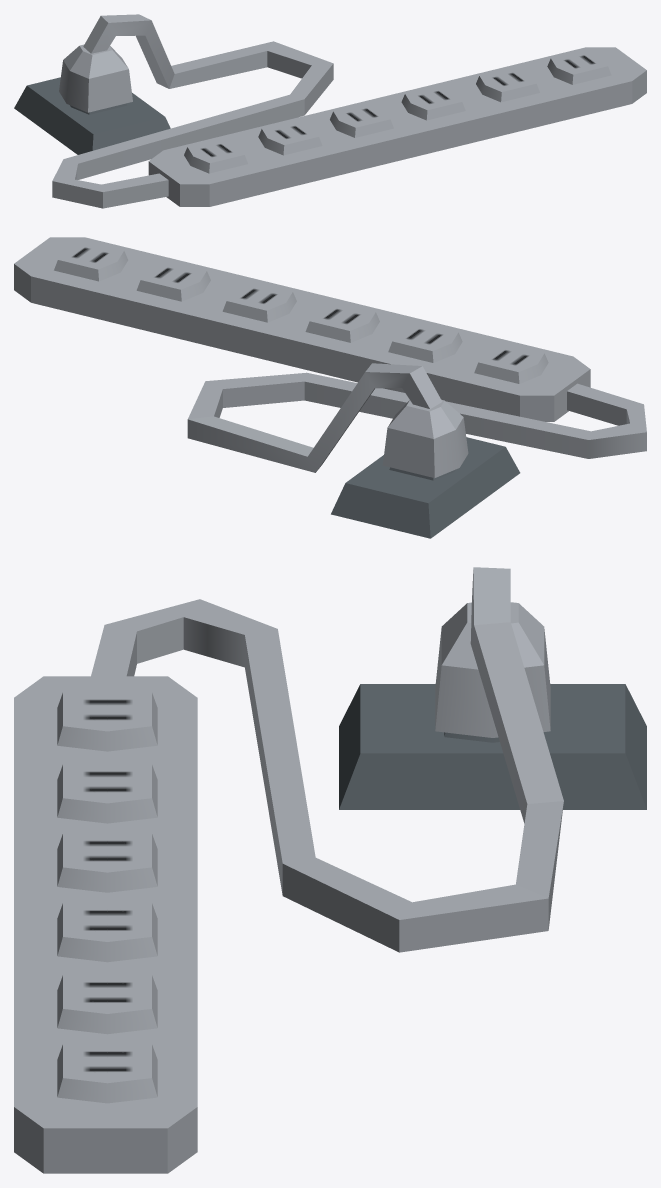
The model's file is SM_Prop_Cord_Board_01.glb.
3 views of the same model, one above another, from view 1: azimuth 30°, elevation 25°; view 2: azimuth 150°, elevation 25°; view 3: azimuth 270°, elevation 25° (orthographic). The views are drawn at different scales.
Parts seen in each view (by area): view 1: SM_Prop_Cord_Board_01; view 2: SM_Prop_Cord_Board_01; view 3: SM_Prop_Cord_Board_01.
Part boxes in pixels (bbox=[...]): SM_Prop_Cord_Board_01: bbox=[14, 14, 646, 208]; SM_Prop_Cord_Board_01: bbox=[14, 237, 646, 538]; SM_Prop_Cord_Board_01: bbox=[14, 567, 646, 1173].
Size of the model in its own units: 0.7576 by 0.1368 by 0.377.
1 material, 1 textured.
